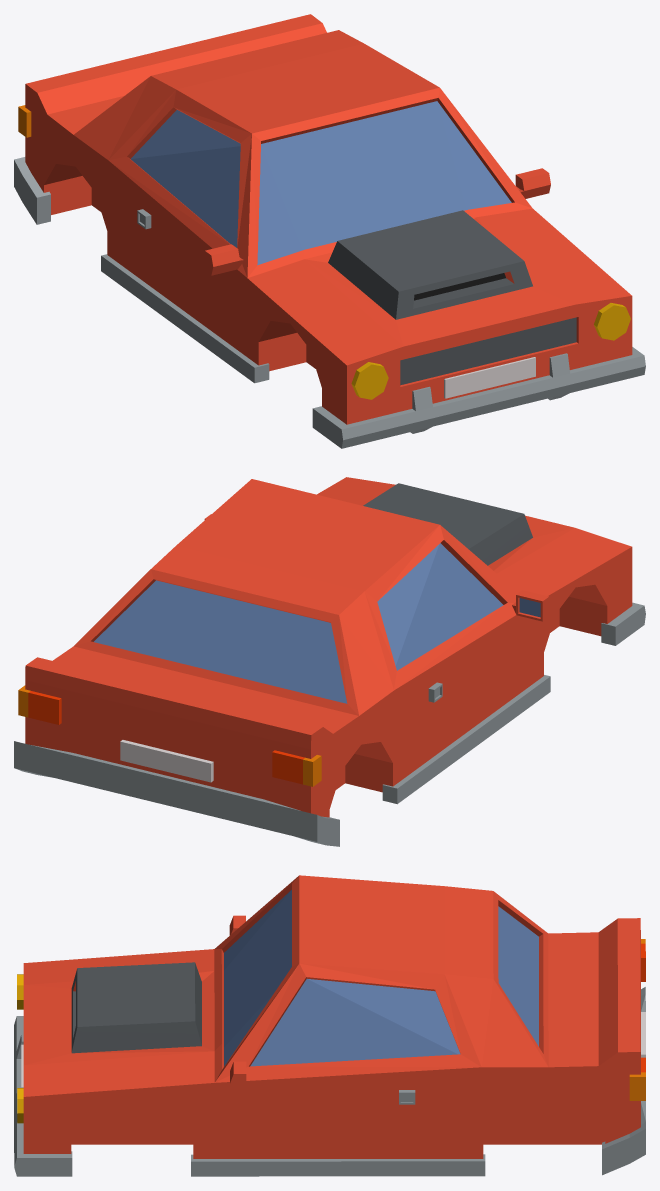
The model's file is Car_07.fbx.
3 views of the same model, one above another, from view 1: azimuth 30°, elevation 25°; view 2: azimuth 150°, elevation 25°; view 3: azimuth 270°, elevation 25° (orthographic). The views are drawn at different scales.
Visible parts, largest first — view 1: Car_07; view 2: Car_07; view 3: Car_07.
Part boxes in pixels (x1,y1,x2,y2): Car_07: [14, 14, 645, 448]; Car_07: [14, 477, 645, 846]; Car_07: [14, 875, 645, 1176].
Size of the model in its own units: 3.88 by 2.22 by 6.55.
